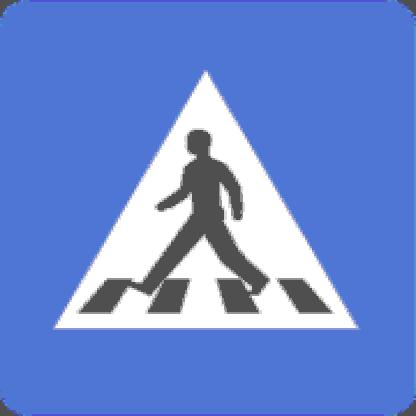Pedestrian Crossing: (33, 54, 379, 365)
